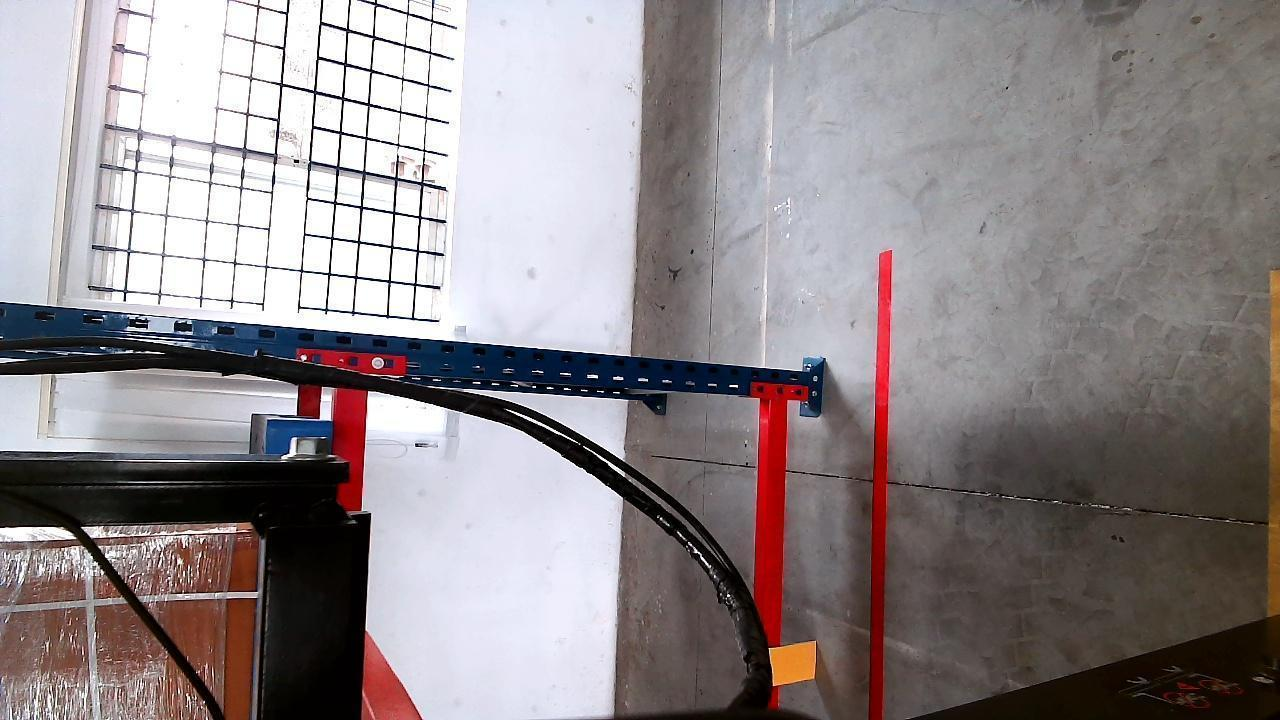red_line: (868, 253, 894, 720)
yellow_line: (1268, 265, 1280, 616)
